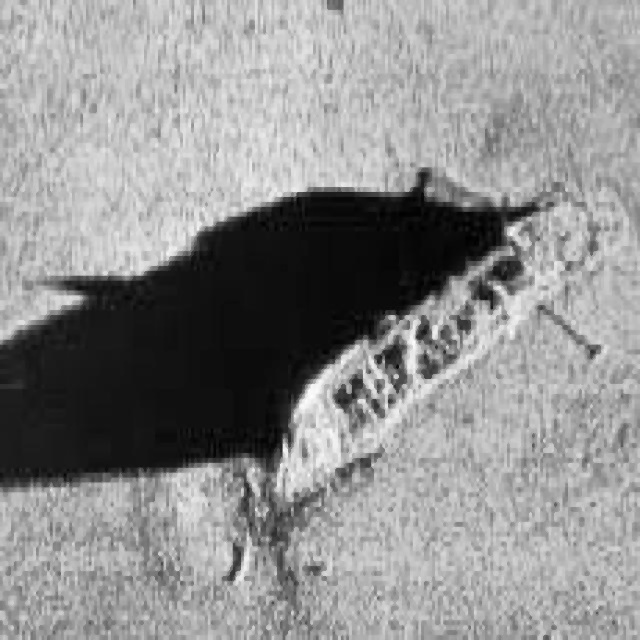Ship: (253, 157, 611, 540)
